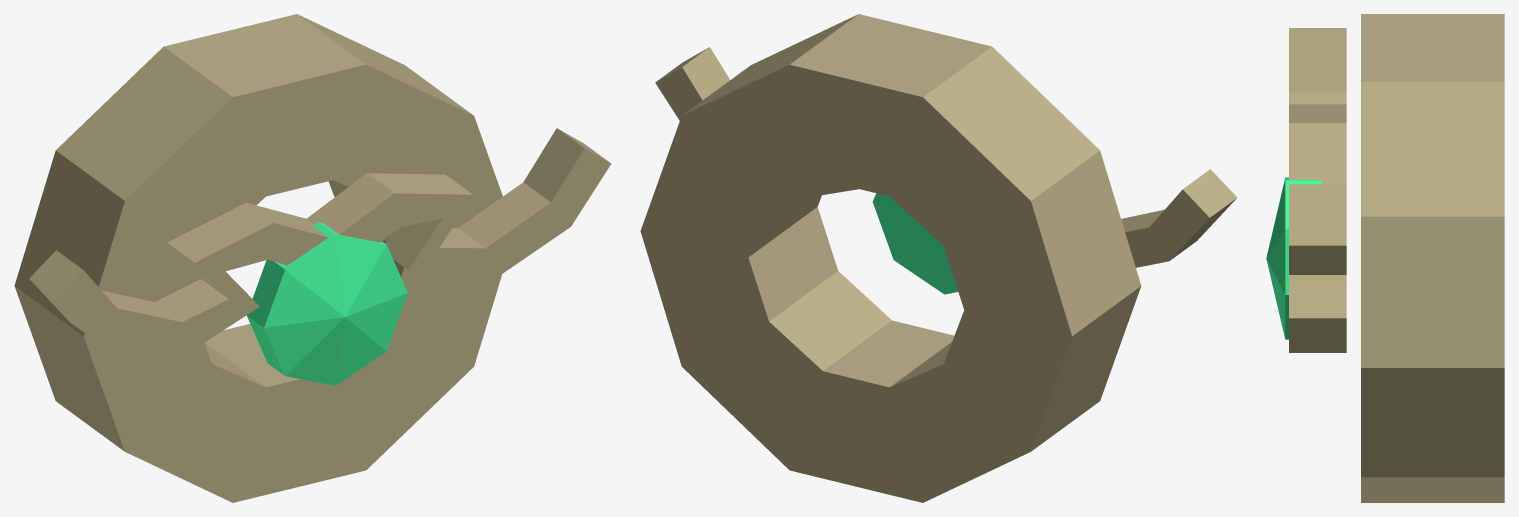
The model's file is cloud_ring.obj.
3 renders of one model, left to right at view 1: azimuth 30°, elevation 25°; view 2: azimuth 150°, elevation 25°; view 3: azimuth 270°, elevation 25°, orthographic. The views are drawn at different scales.
Parts seen in each view (by area): view 1: cloud_ring, cloud_ring_gem, pommel_cloud_right, pommel_cloud_right_edge, pommel_cloud_left, pommel_cloud_left_edge; view 2: cloud_ring, cloud_ring_gem, pommel_cloud_left, pommel_cloud_left_edge, pommel_cloud_right, pommel_cloud_right_edge; view 3: cloud_ring, pommel_cloud_right_edge, pommel_cloud_left_edge, cloud_ring_gem.
Part boxes in pixels (x1,y1,x2,y2): cloud_ring: (14,14,502,502); cloud_ring_gem: (246,222,407,385); pommel_cloud_right: (340,148,611,283); pommel_cloud_right_edge: (306,128,609,269); pommel_cloud_left: (57,223,328,358); pommel_cloud_left_edge: (29,202,328,341); cloud_ring: (640,14,1141,502); cloud_ring_gem: (872,193,958,294); pommel_cloud_left: (1125,189,1209,267); pommel_cloud_left_edge: (1121,169,1237,260); pommel_cloud_right: (655,67,857,194); pommel_cloud_right_edge: (657,47,729,99); cloud_ring: (1361,14,1504,502); pommel_cloud_right_edge: (1289,184,1346,352); pommel_cloud_left_edge: (1289,28,1346,184); cloud_ring_gem: (1266,177,1321,339).
Bounding box in the file's own units: 0.4626 × 0.3234 × 0.1658.
